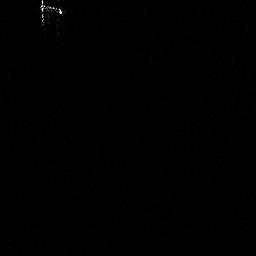ship: (39, 1, 62, 24)
